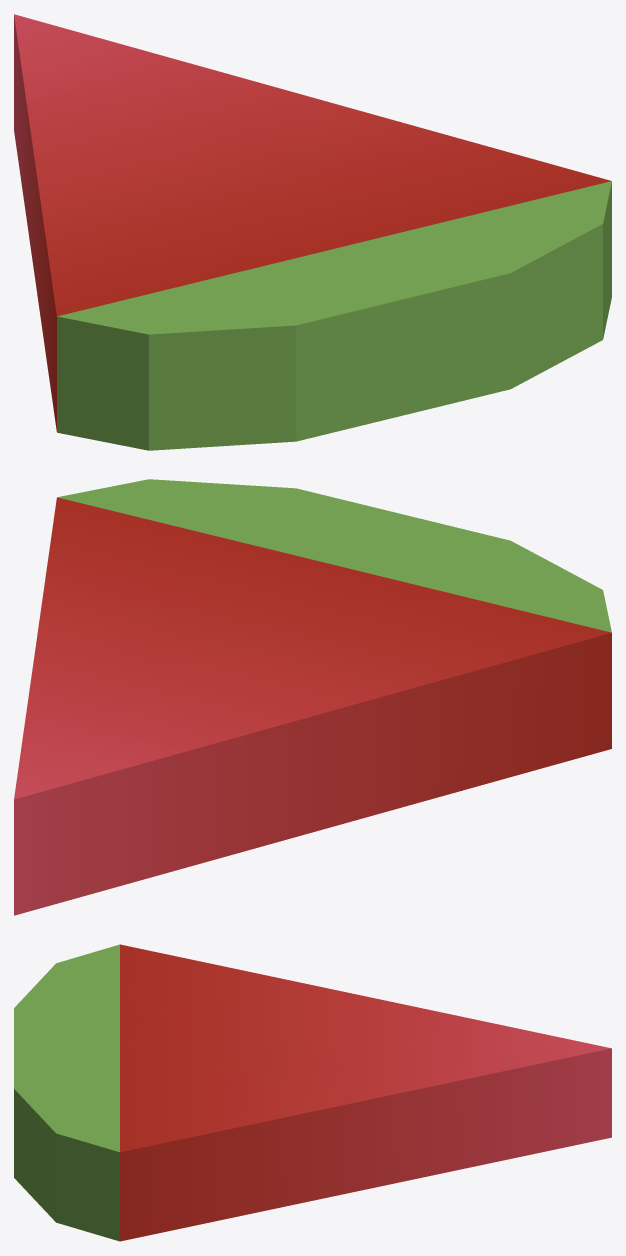
Rendered from watermelon.fbx.
The picture shows the model from 3 angles, top to bottom: view 1: azimuth 30°, elevation 25°; view 2: azimuth 150°, elevation 25°; view 3: azimuth 270°, elevation 25°; orthographic projection. The views are drawn at different scales.
Parts seen in each view (by area): view 1: watermelon; view 2: watermelon; view 3: watermelon.
Part boxes in pixels (x1,y1,x2,y2): watermelon: [14, 14, 611, 450]; watermelon: [14, 479, 611, 915]; watermelon: [14, 944, 611, 1241].
Size of the model in its own units: 0.4 by 0.08 by 0.4862.
Materials: 1 (1 with a texture image).
